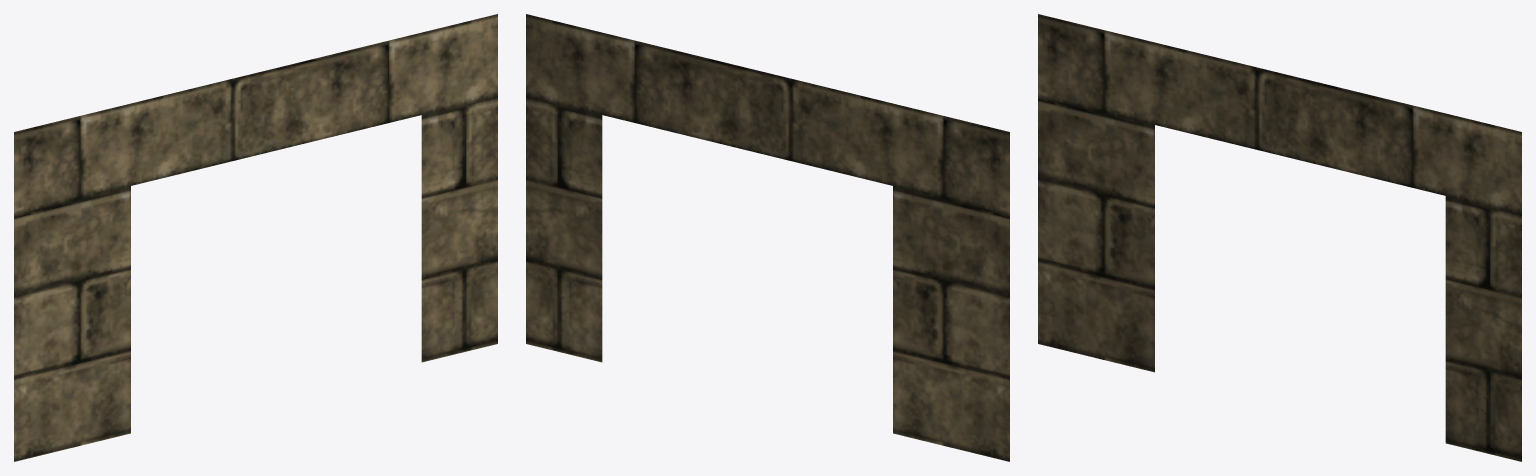
File: OVERHILL_A_01_OBJECT132.fbx
3 renders of one model, left to right at view 1: azimuth 30°, elevation 25°; view 2: azimuth 150°, elevation 25°; view 3: azimuth 330°, elevation 25°, orthographic.
Parts seen in each view (by area): view 1: OVERHILL_A_01_OBJECT132; view 2: OVERHILL_A_01_OBJECT132; view 3: OVERHILL_A_01_OBJECT132.
Boxes of the visible parts, x1=… form: OVERHILL_A_01_OBJECT132: x1=14, y1=14, x2=497, y2=461; OVERHILL_A_01_OBJECT132: x1=526, y1=14, x2=1009, y2=461; OVERHILL_A_01_OBJECT132: x1=1038, y1=14, x2=1521, y2=461.
Size of the model in its own units: 52745 by 34378 by 0.1033.
1 material, 1 textured.
